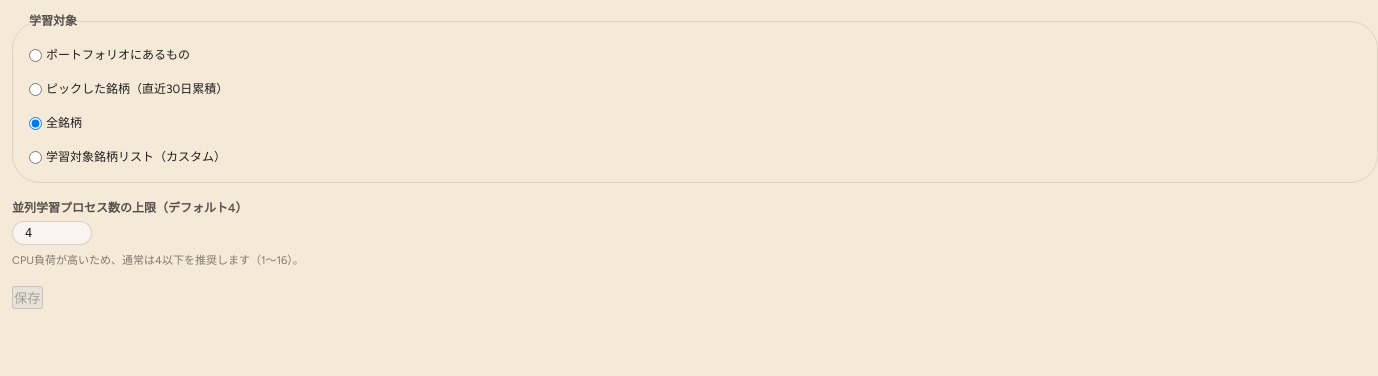
Test: TrainingTargetPanel › モードを変更すると保存でき、保存後は再起動不要の通知を表示する
Click the radio button labelled "ポートフォリオにあるもの" at (36, 55), box [29,48,42,62]
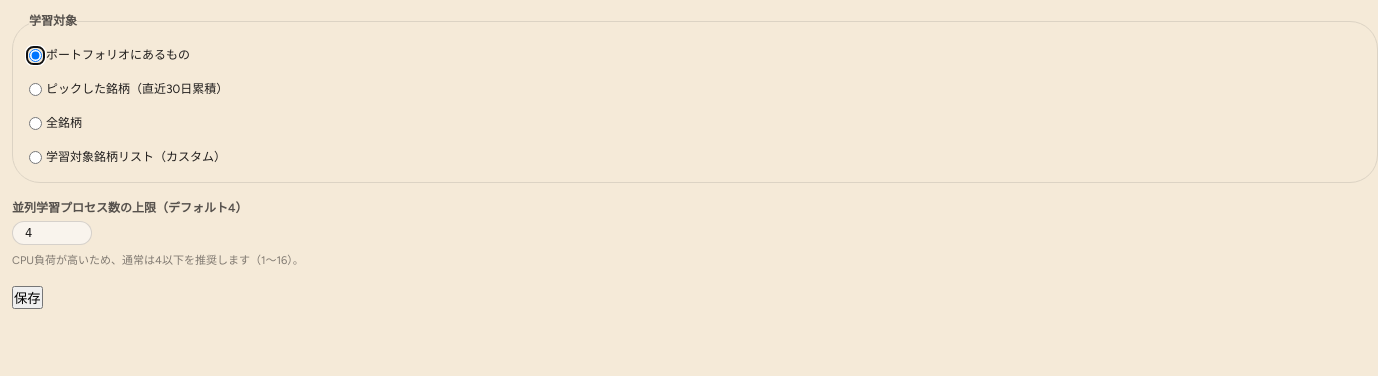
Expected: the button "保存" is enabled
Click the button "保存" at (27, 297), box [12,286,43,308]
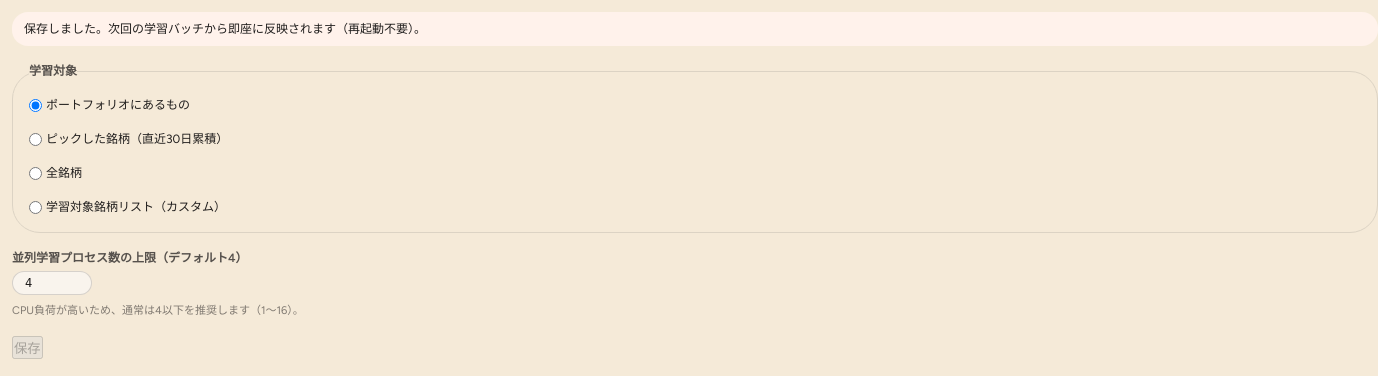
Expected: the text "保存しました。次回の学習バッチから即座に反映されます（再起動不要）。" is shown, [12,12,1377,46]
